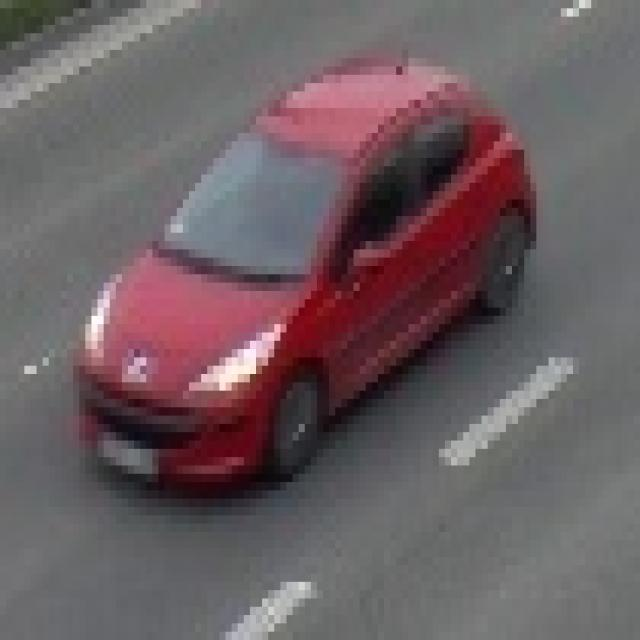red: (60, 53, 544, 494)
